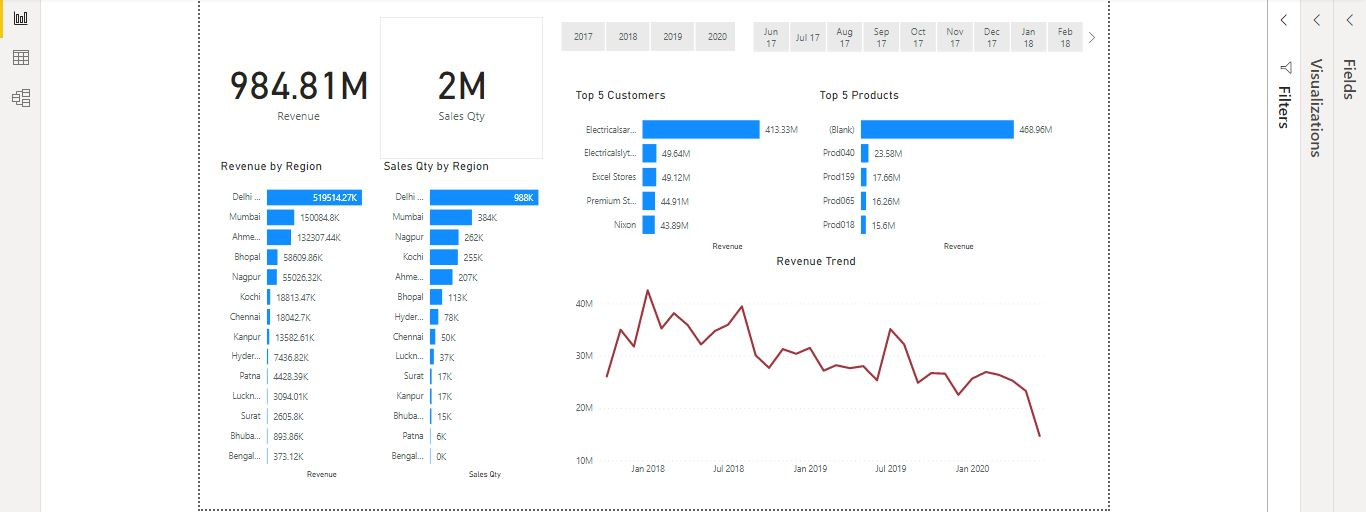

The dashboard page shown, as its layout file describes it:
{"tool":"powerbi","page":{"name":"Page 1","canvas":[1280,720],"ordinal":0},"visuals":[{"type":"card","fields":{"Values":["base_measures.Revenue"]},"box":[23.5,26.9,230.1,199.9],"z":0},{"type":"card","fields":{"Values":["base_measures.Sales Qty"]},"box":[253.6,26.9,230.1,199.9],"z":1000},{"type":"barChart","title":"Revenue by Region","fields":{"Y":["base_measures.Revenue"],"Category":["sales markets.markets_name"]},"box":[24,226.8,229.7,455.1],"z":2000},{"type":"barChart","title":"Sales Qty by Region","fields":{"Category":["sales markets.markets_name"],"Y":["base_measures.Sales Qty"]},"box":[253.6,226.8,229.7,455.1],"z":3000},{"type":"slicer","fields":{"Values":["sales date.year"]},"box":[483.3,26.8,300.1,55],"z":4000},{"type":"slicer","fields":{"Values":["sales date.cy_date"]},"box":[753.8,26.8,514.3,55],"z":5000},{"type":"barChart","title":"Top 5 Customers","fields":{"Y":["base_measures.Revenue"],"Category":["sales customers.custmer_name"]},"box":[524.1,126.8,343.8,233.9],"z":6000},{"type":"barChart","title":"Top 5 Products","fields":{"Y":["base_measures.Revenue"],"Category":["sales products.product_code"]},"box":[867.9,126.8,343.8,233.9],"z":7000},{"type":"lineChart","title":"Revenue Trend","fields":{"Y":["base_measures.Revenue"],"Category":["sales date.cy_date"]},"box":[524.1,360.7,687.6,321.3],"z":8000}]}

Visuals, with their boxes on the page's 1280x720 design canvas (x1, y1, x2, y2). These are canvas units, not pixel positions in the 1366x512 screenshot, which may show the page scaled, cropped or inside an application window:
card - base_measures.Revenue: (x1=24, y1=27, x2=254, y2=227)
card - base_measures.Sales Qty: (x1=254, y1=27, x2=484, y2=227)
"Revenue by Region" barChart: (x1=24, y1=227, x2=254, y2=682)
"Sales Qty by Region" barChart: (x1=254, y1=227, x2=483, y2=682)
slicer - sales date.year: (x1=483, y1=27, x2=783, y2=82)
slicer - sales date.cy_date: (x1=754, y1=27, x2=1268, y2=82)
"Top 5 Customers" barChart: (x1=524, y1=127, x2=868, y2=361)
"Top 5 Products" barChart: (x1=868, y1=127, x2=1212, y2=361)
"Revenue Trend" lineChart: (x1=524, y1=361, x2=1212, y2=682)
